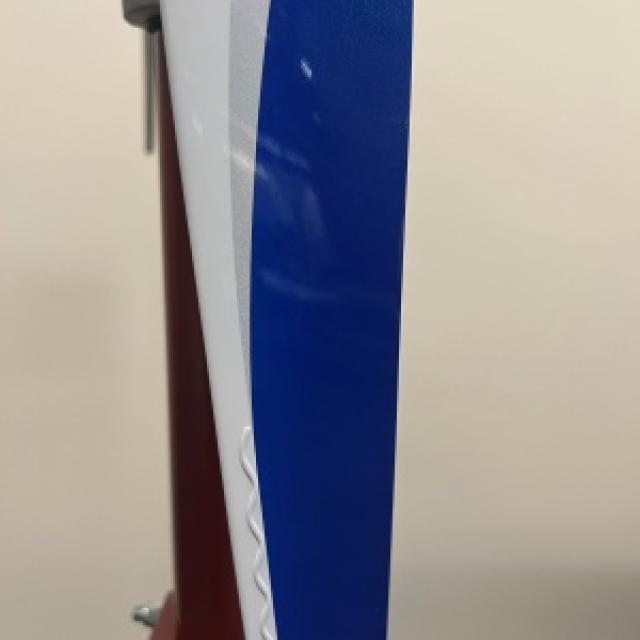healthy: (128, 0, 407, 638)
